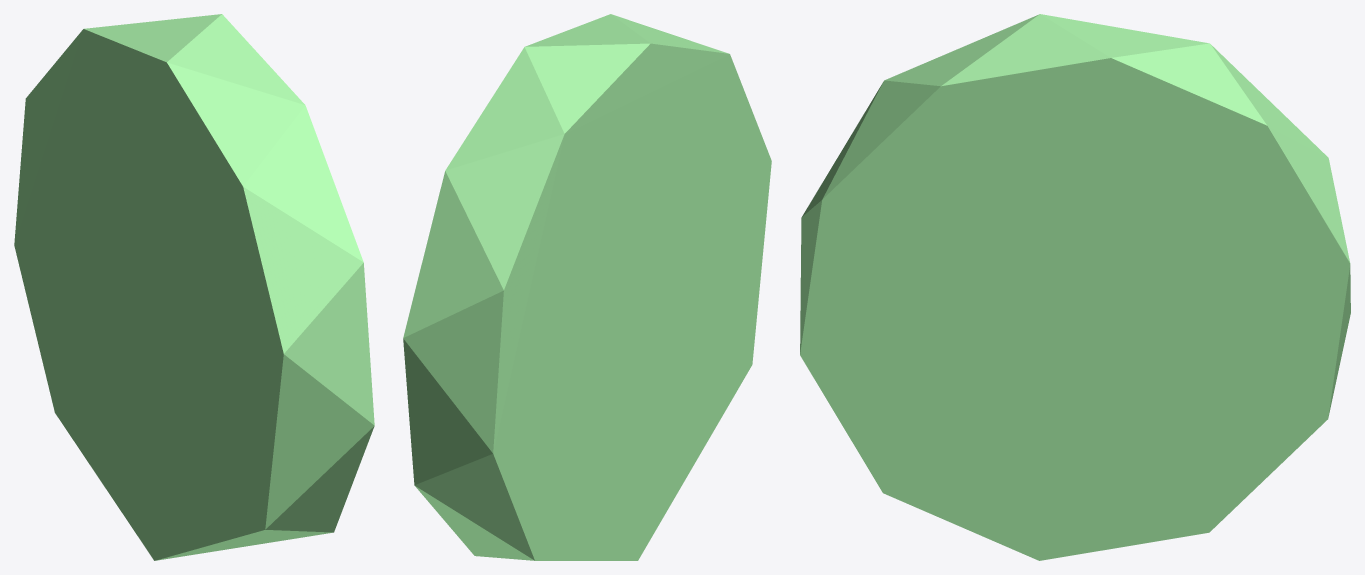
File: linkhou_LR4_R560_link4_respondable_coll_2.dae
3 views of the same model, side by side, from view 1: azimuth 30°, elevation 25°; view 2: azimuth 150°, elevation 25°; view 3: azimuth 270°, elevation 25° (orthographic).
Parts seen in each view (by area): view 1: Node_0000029808436A60; view 2: Node_0000029808436A60; view 3: Node_0000029808436A60.
Boxes of the visible parts, x1,y1,x2,y2 form: Node_0000029808436A60: (14, 14, 374, 560); Node_0000029808436A60: (403, 14, 771, 560); Node_0000029808436A60: (800, 14, 1350, 560).
Bounding box in the file's own units: 0.00891 × 0.0457 × 0.0447.
